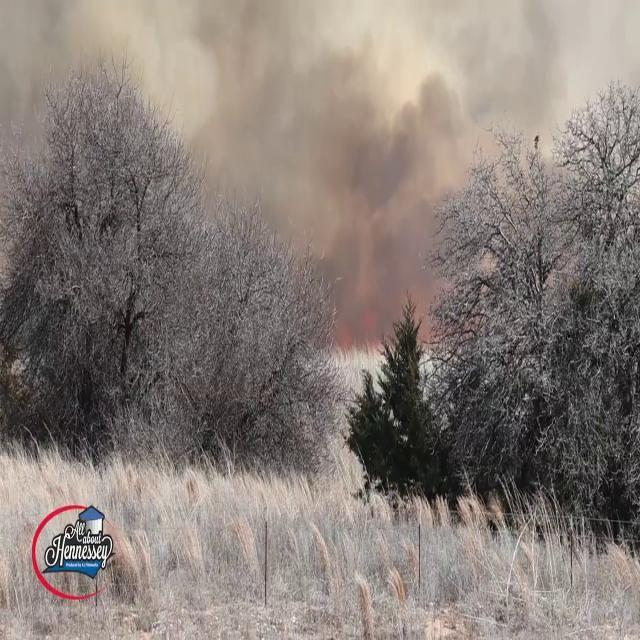Smoke: (158, 0, 478, 348)
